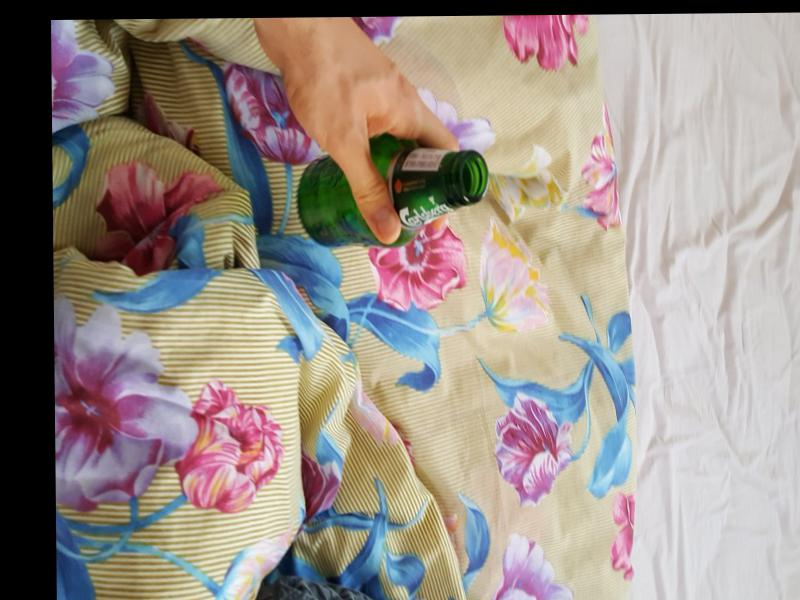Beer: (296, 132, 485, 245)
